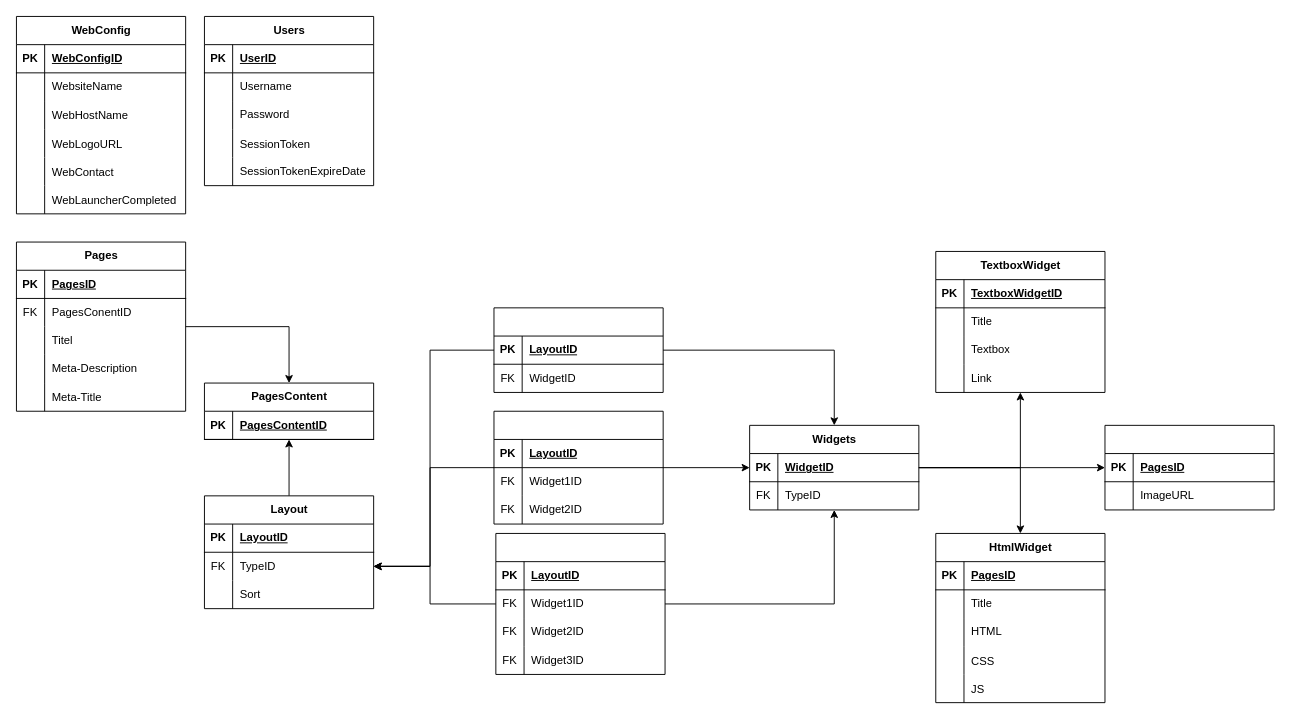
Image size: 1291x719. Some labels were removed from this diagram. The shapes that lost their labels are listed below. From the top down, each one's box as (x1, y1, x2, y2) in pixels, then its label:
(493, 307, 663, 392): Layout-NoSplit
(493, 410, 663, 524): Layout-2Split
(1104, 424, 1274, 510): ImageWidget
(495, 533, 665, 674): Layout-3Split
